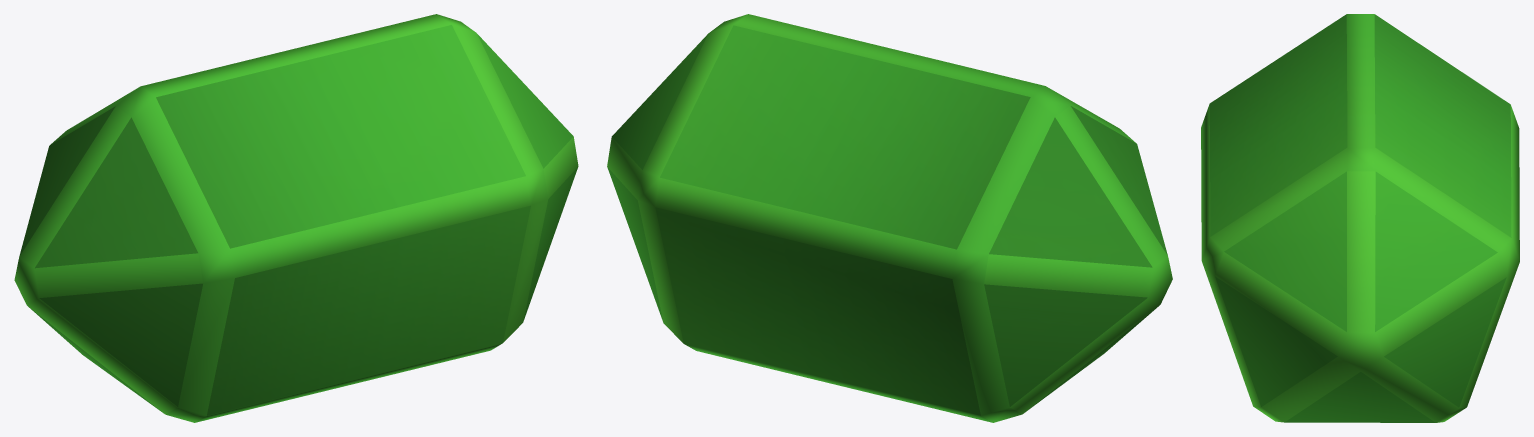
File: christal_emerald_4.fbx
The picture shows the model from 3 angles, left to right: view 1: azimuth 30°, elevation 25°; view 2: azimuth 150°, elevation 25°; view 3: azimuth 270°, elevation 25°; orthographic projection. The views are drawn at different scales.
Parts seen in each view (by area): view 1: christal_emerald_4; view 2: christal_emerald_4; view 3: christal_emerald_4.
Part boxes in pixels (bbox=[...]): christal_emerald_4: bbox=[14, 14, 578, 422]; christal_emerald_4: bbox=[607, 14, 1172, 422]; christal_emerald_4: bbox=[1201, 14, 1519, 422].
Size of the model in its own units: 64.69 by 34.12 by 35.88.
Materials: 1 (1 with a texture image).
